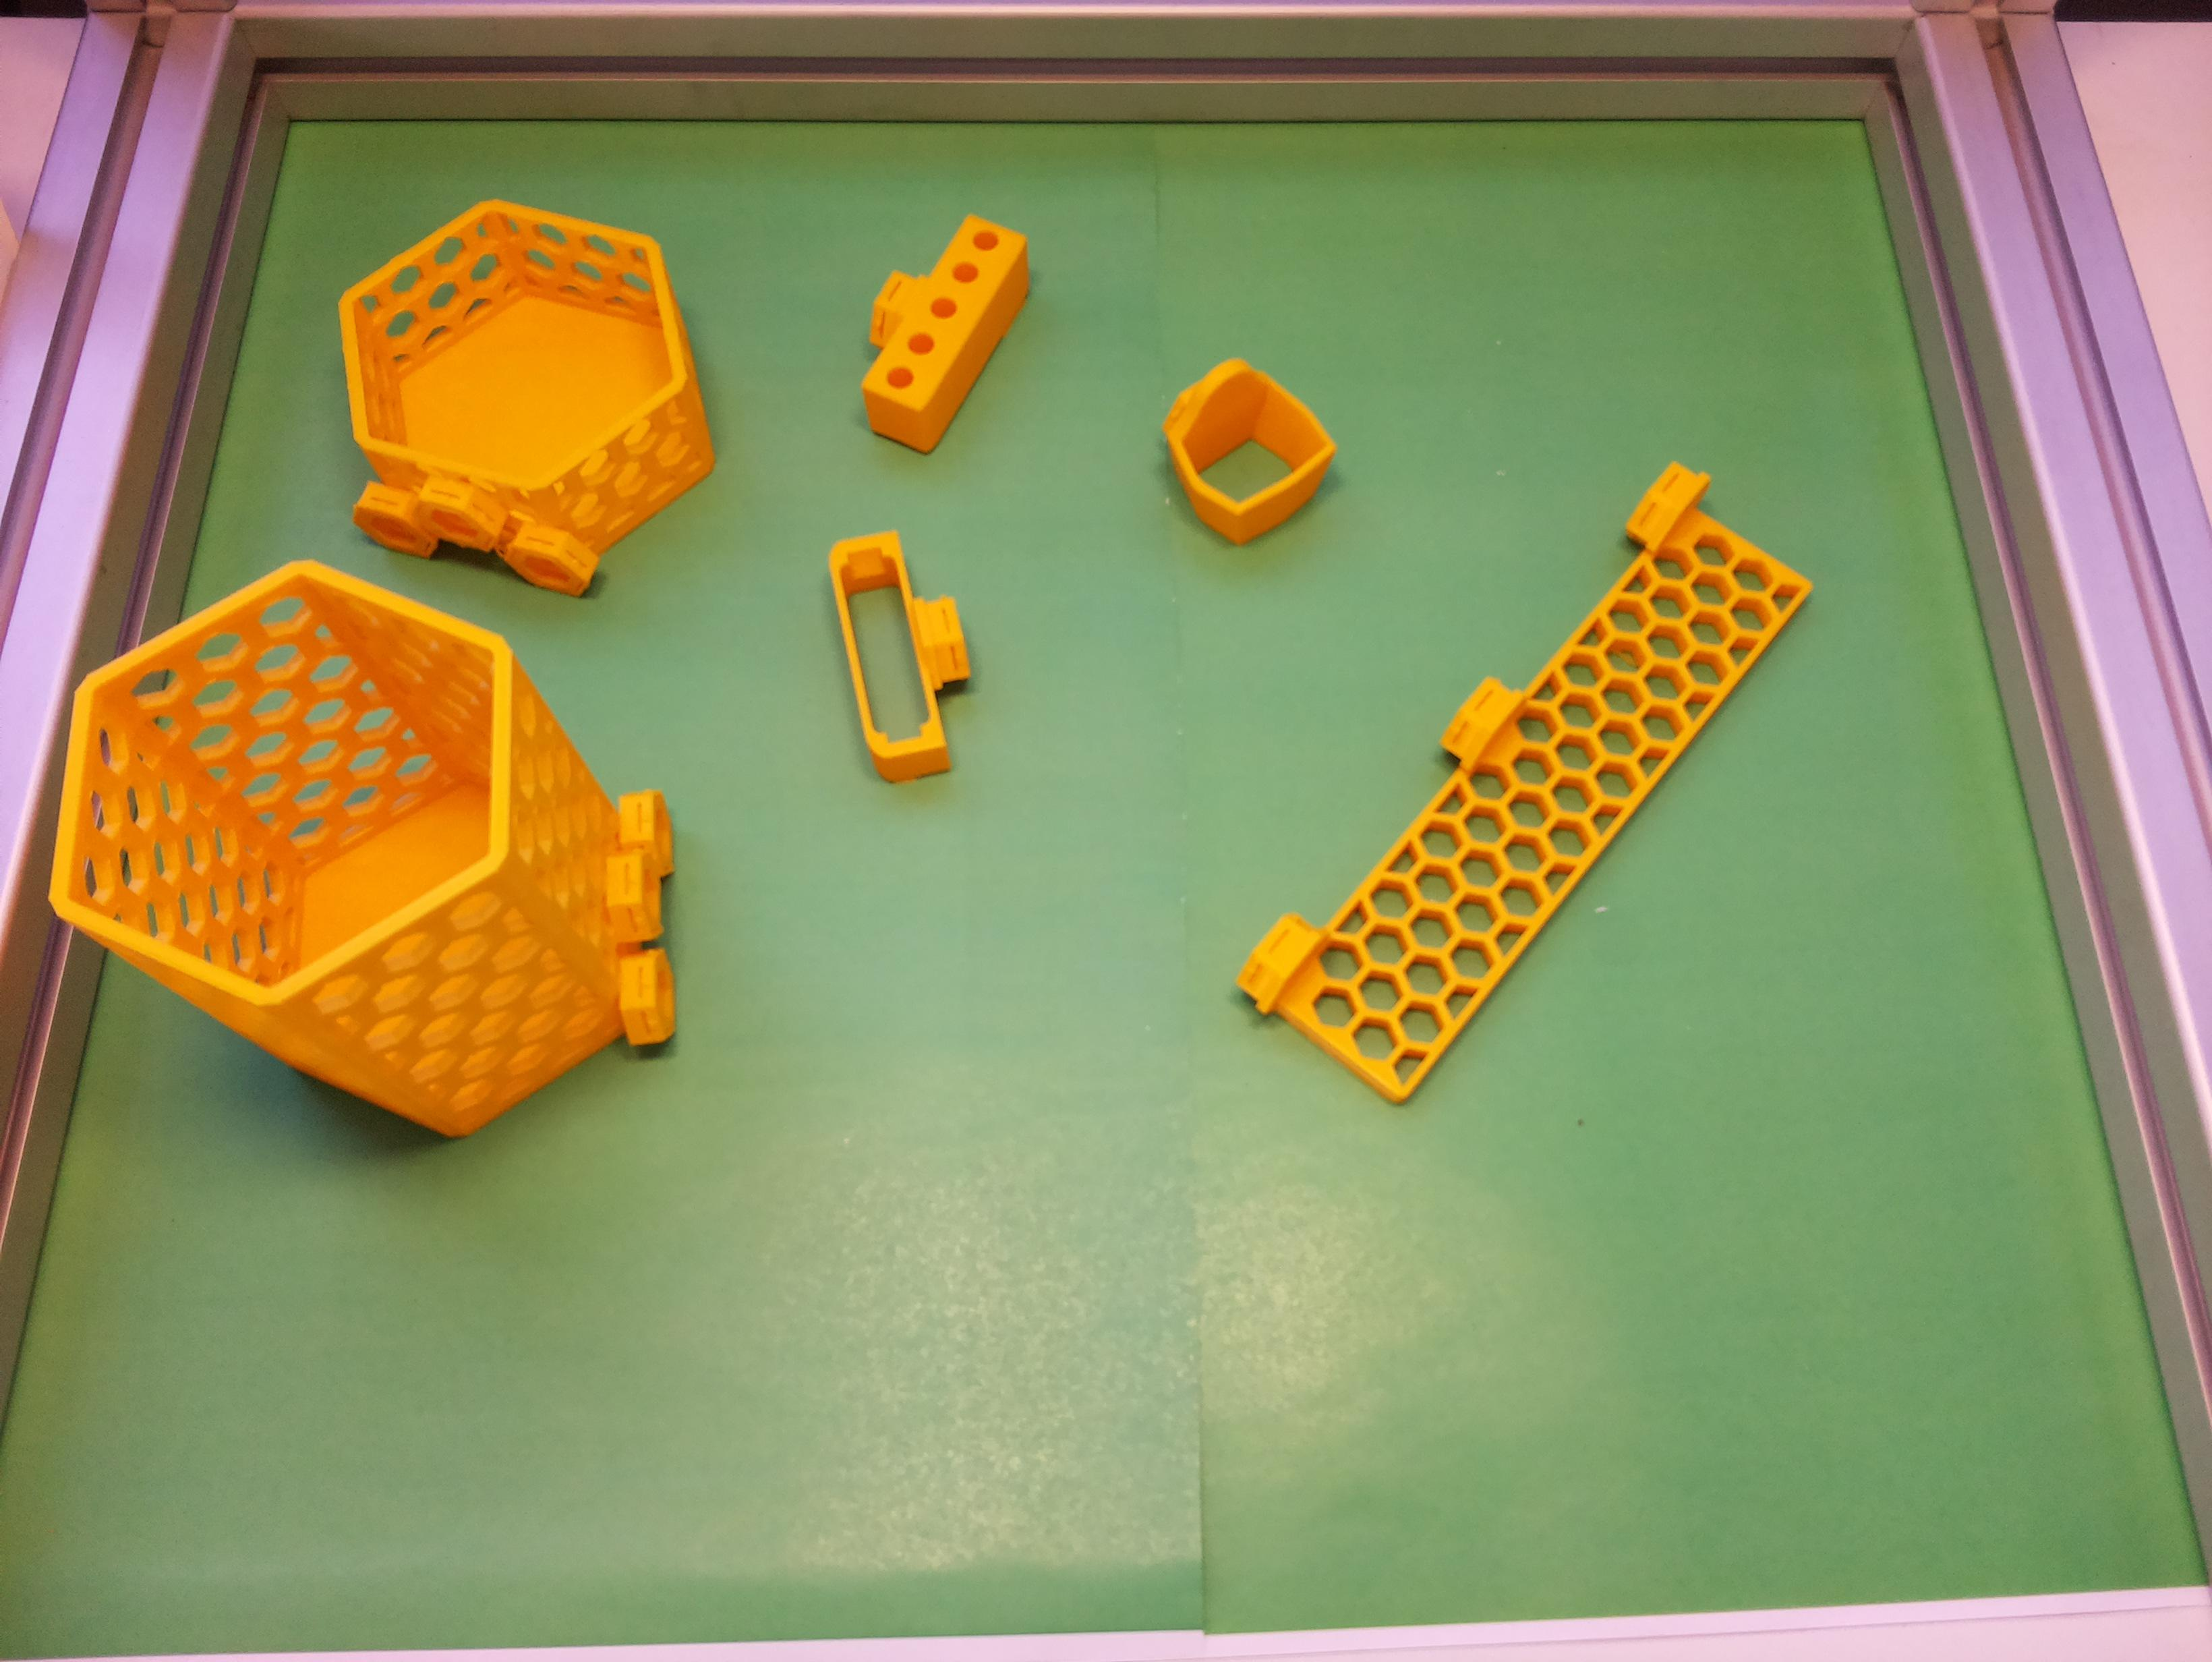bit_holder: (817, 187, 1054, 463)
bottle_holder: (321, 180, 726, 618)
cup_holder: (0, 480, 794, 1208)
cutter_holder: (817, 519, 992, 789)
scissor_holder: (1133, 339, 1353, 560)
tool_holder: (1226, 440, 1828, 1117)
